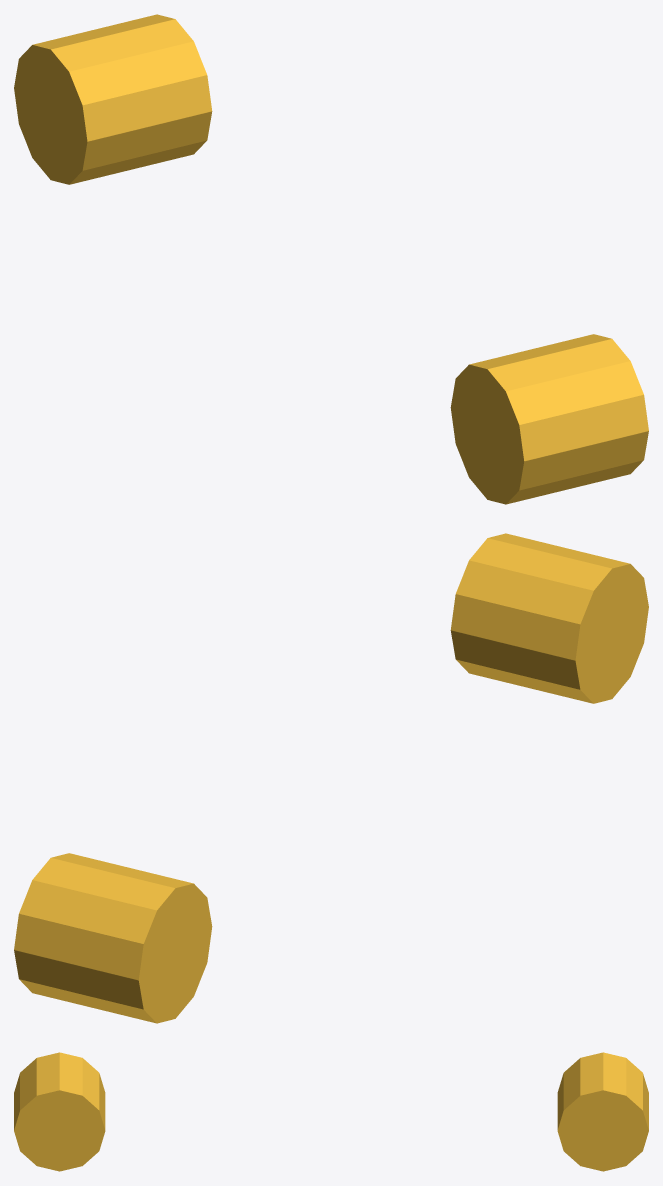
File: FrontLights1.glb
The picture shows the model from 3 angles, top to bottom: view 1: azimuth 30°, elevation 25°; view 2: azimuth 150°, elevation 25°; view 3: azimuth 270°, elevation 25°; orthographic projection. The views are drawn at different scales.
Parts seen in each view (by area): view 1: Cube.060; view 2: Cube.060; view 3: Cube.060.
Boxes of the visible parts, left/top/right/bottom form: Cube.060: left=14, top=14, right=648, bottom=504; Cube.060: left=14, top=533, right=648, bottom=1023; Cube.060: left=14, top=1052, right=648, bottom=1171.
Bounding box in the file's own units: 0.0103 × 0.0103 × 0.0731.
1 material, 1 textured.
